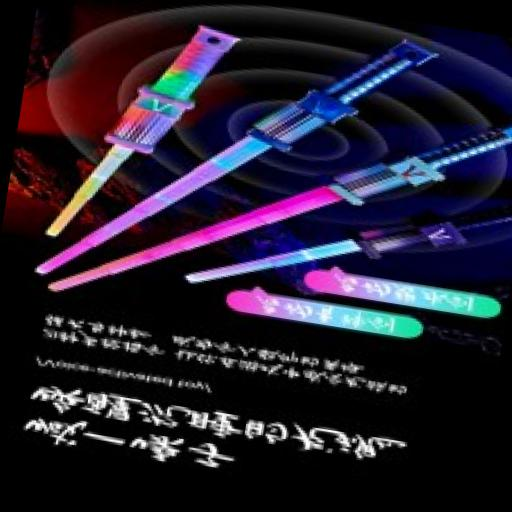lightsaber: (48, 52, 512, 361), (35, 0, 444, 333), (185, 152, 512, 338), (42, 6, 244, 268)
